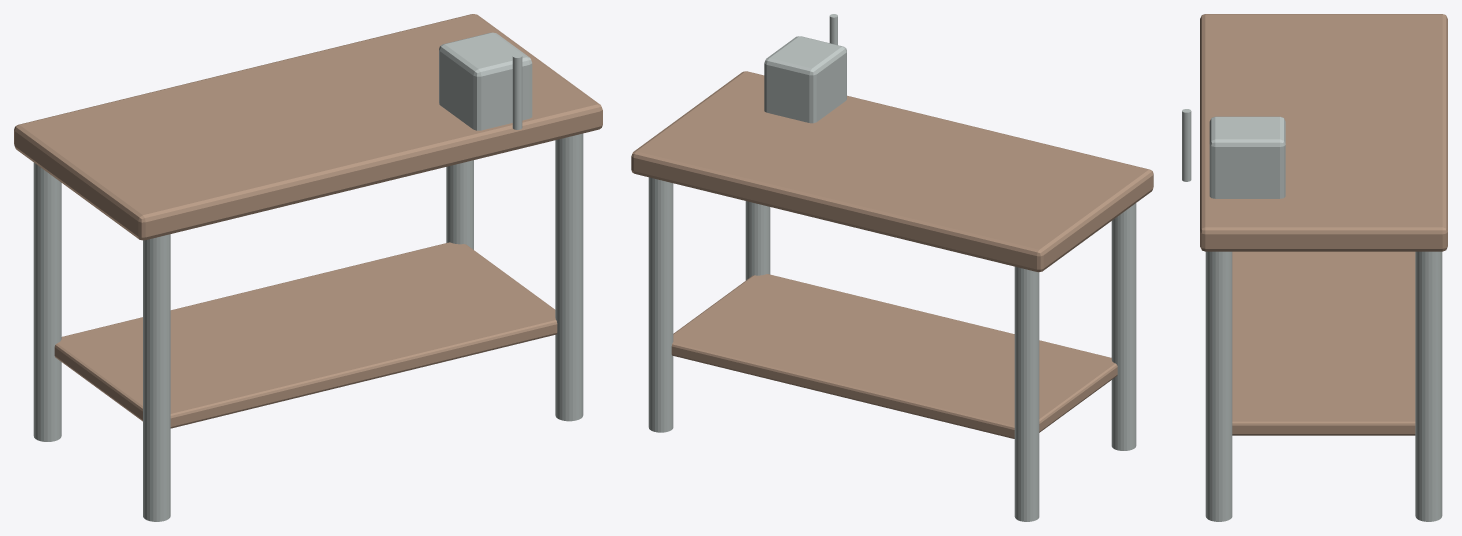
3 views of the same model, side by side, from view 1: azimuth 30°, elevation 25°; view 2: azimuth 150°, elevation 25°; view 3: azimuth 270°, elevation 25° (orthographic). The views are drawn at different scales.
Visible parts, largest first — view 1: work surface, lower shelf, support.002, support, support.001, vice, support.003, vice lever; view 2: work surface, lower shelf, support.001, support.003, support, vice, support.002; view 3: work surface, lower shelf, support.002, support.003, vice, vice lever.
Part boxes in pixels (x1,y1,x2,y2): work surface: (14,14,602,240); lower shelf: (54,242,557,428); support.002: (555,133,583,421); support: (143,234,170,521); support.001: (33,162,61,441); vice: (439,32,532,130); support.003: (446,160,473,249); vice lever: (512,54,522,129); work surface: (631,71,1153,272); lower shelf: (671,274,1117,438); support.001: (1014,266,1039,521); support.003: (648,177,673,432); support: (1111,203,1136,450); vice: (764,36,846,123); support.002: (745,201,770,280); work surface: (1200,14,1447,251); lower shelf: (1232,251,1415,435); support.002: (1205,251,1232,521); support.003: (1415,251,1442,521); vice: (1209,116,1285,198); vice lever: (1182,109,1191,181).
Bounding box in the file's own units: 1.35 × 1.08 × 0.697.
